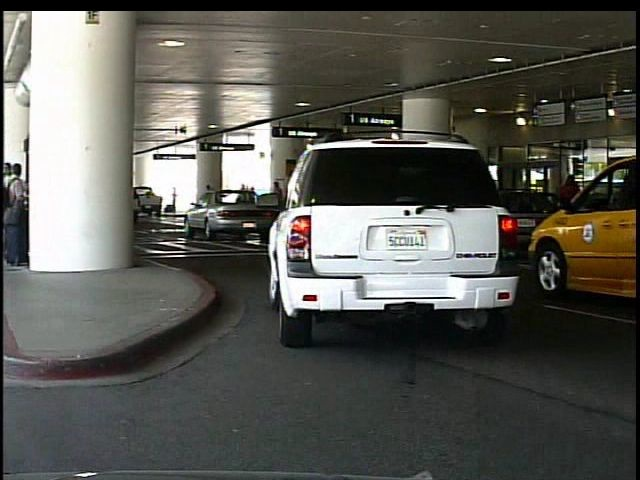person: (557, 171, 586, 256), (172, 187, 180, 214)
